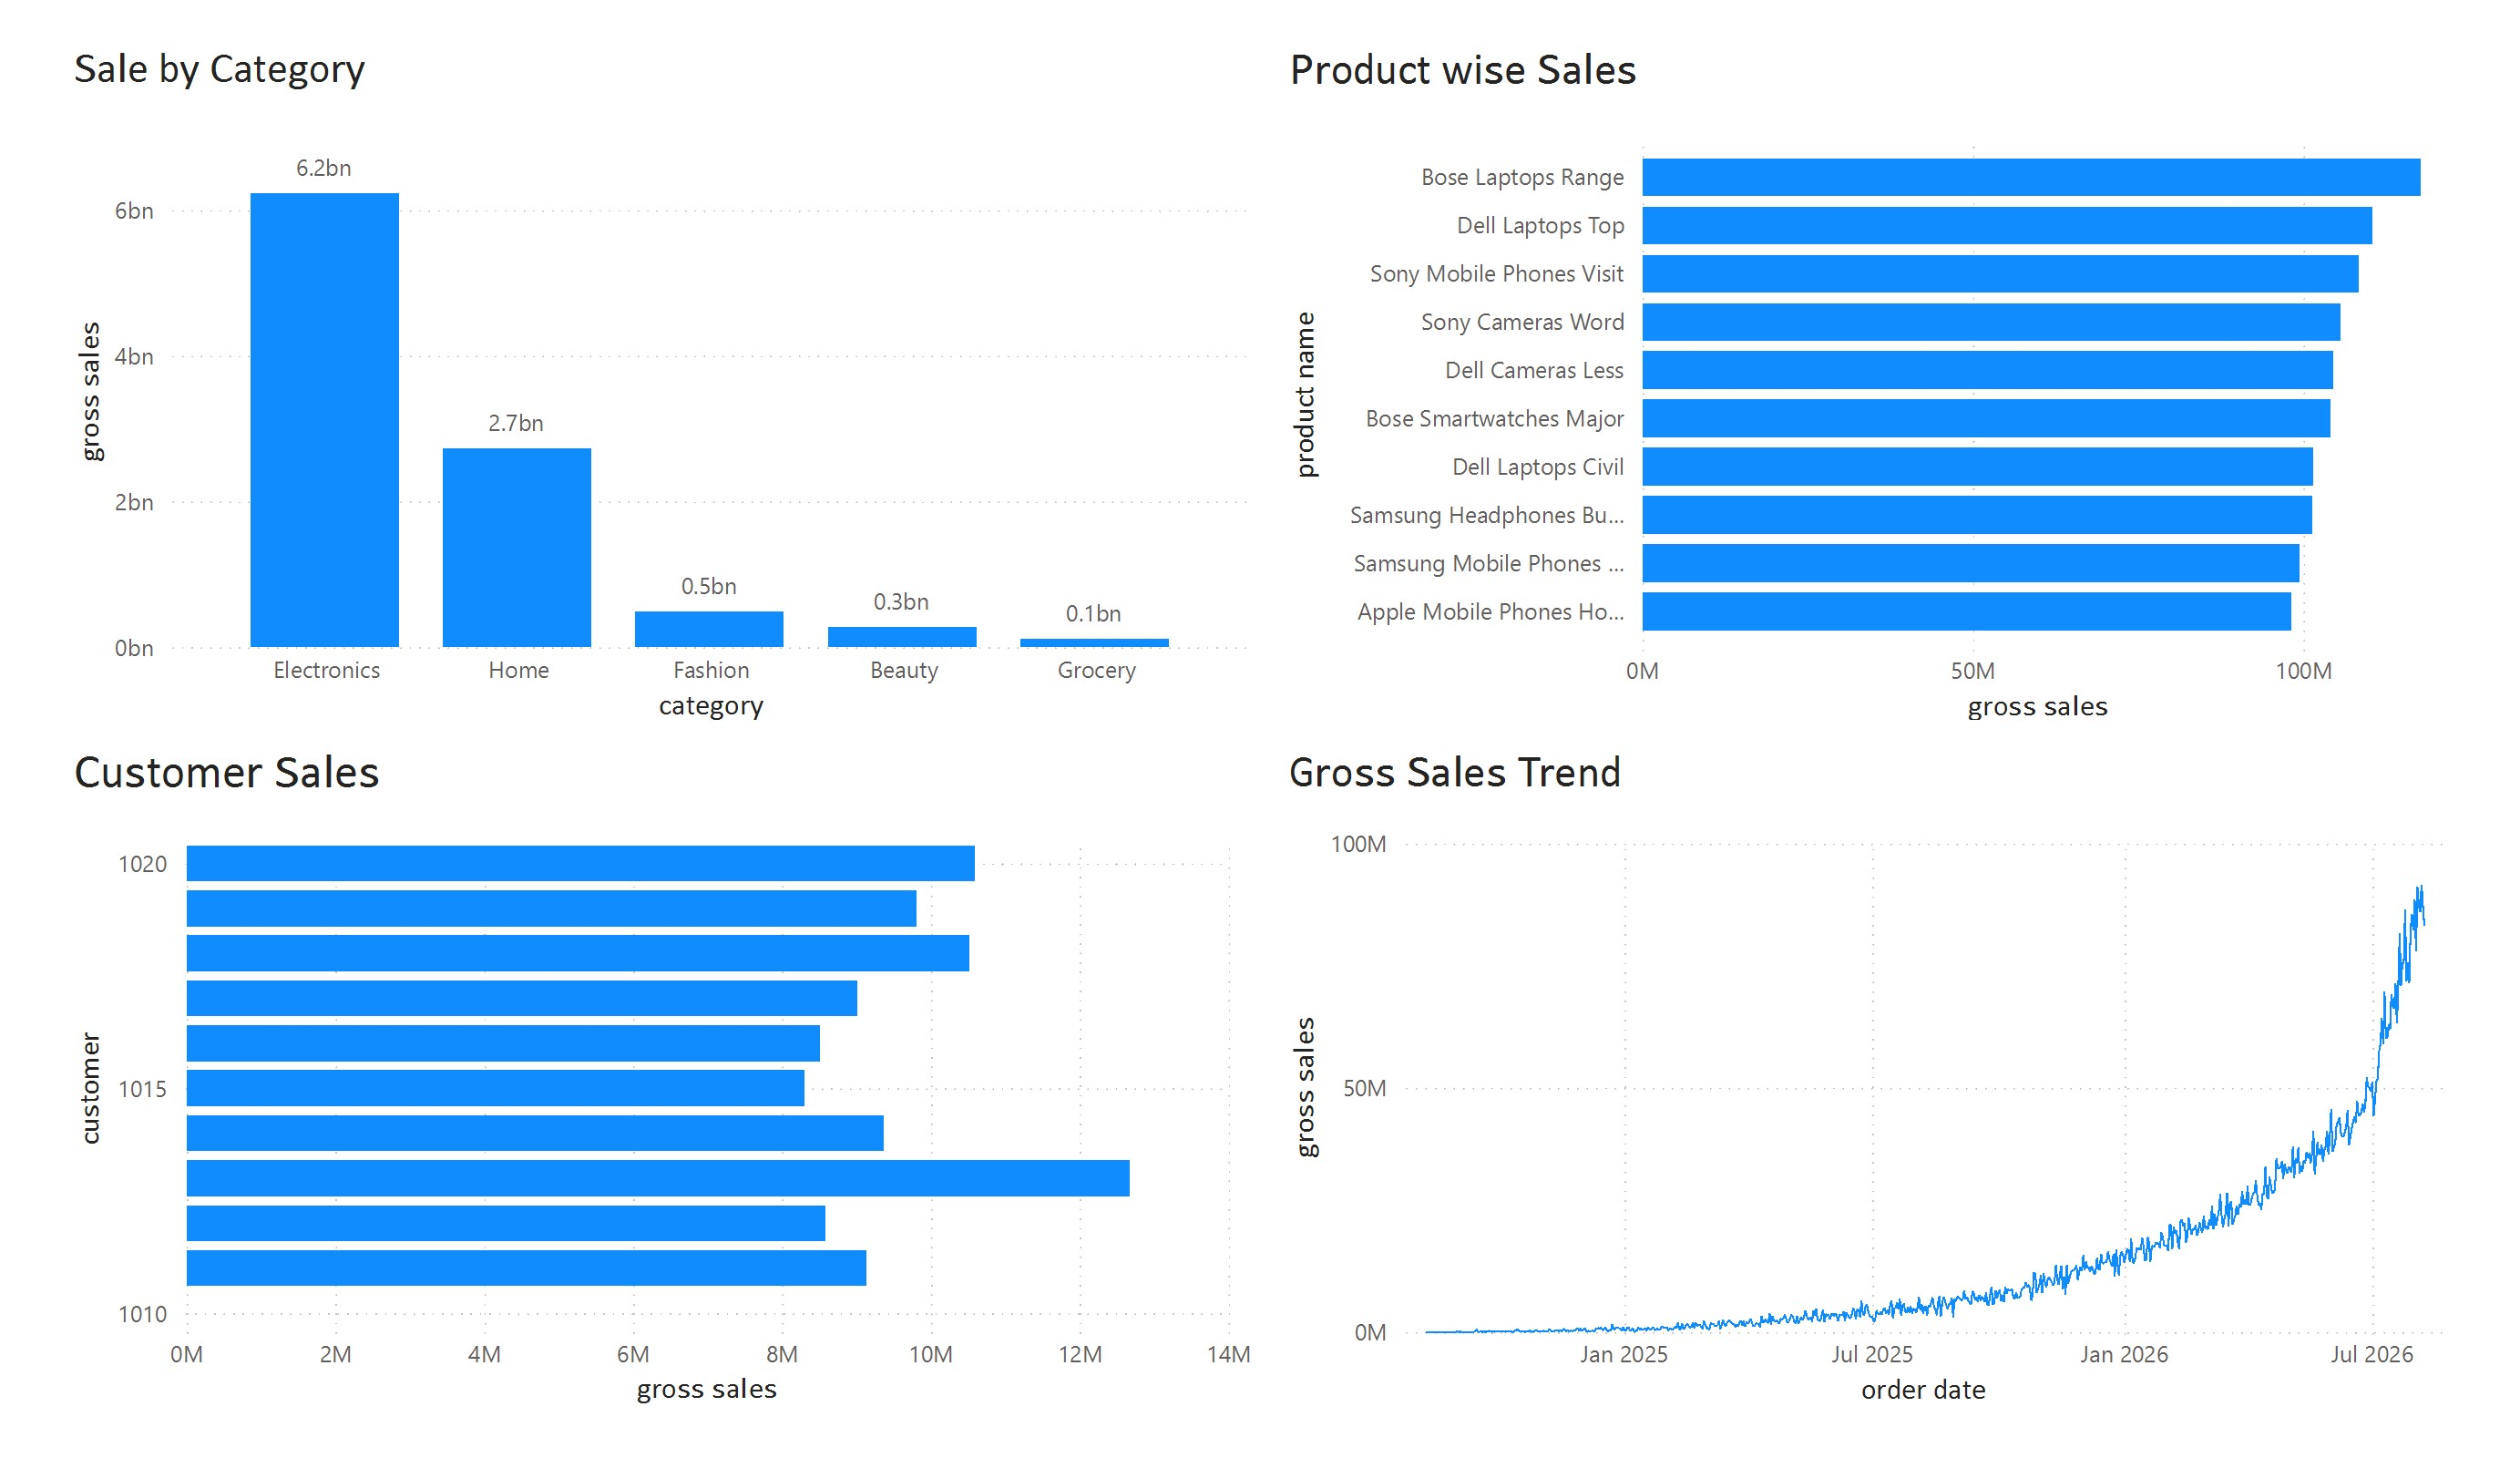

This screenshot's page, from the dashboard's own definition file:
{"tool":"powerbi","page":{"name":"Sales","canvas":[1280,720],"ordinal":2},"visuals":[{"type":"clusteredColumnChart","title":"Sale by Category","fields":{"Category":["Category_Sales.category"],"Y":["Sum(Category_Sales.gross_sales)"]},"box":[10,0,630,360],"z":0},{"type":"clusteredBarChart","title":"Customer Sales","fields":{"Category":["Customer_Sales.customer_id"],"Y":["Sum(Customer_Sales.gross_sales)"]},"box":[10,370,630,350],"z":1000},{"type":"clusteredBarChart","title":"Product wise Sales","fields":{"Category":["Products_Sales.product_name"],"Y":["Sum(Products_Sales.gross_sales)"]},"box":[650,0,630,360],"z":2000},{"type":"lineChart","title":"Gross Sales Trend","fields":{"Y":["Sum(Daily_Sales.gross_sales)"],"Category":["Daily_Sales.order_date"]},"box":[650,370,630,350],"z":3000}]}

Visuals, with their boxes on the page's 1280x720 design canvas (x1, y1, x2, y2). These are canvas units, not pixel positions in the 2520x1458 screenshot, which may show the page scaled, cropped or inside an application window:
"Sale by Category" clusteredColumnChart: locate(10, 0, 640, 360)
"Customer Sales" clusteredBarChart: locate(10, 370, 640, 720)
"Product wise Sales" clusteredBarChart: locate(650, 0, 1280, 360)
"Gross Sales Trend" lineChart: locate(650, 370, 1280, 720)
